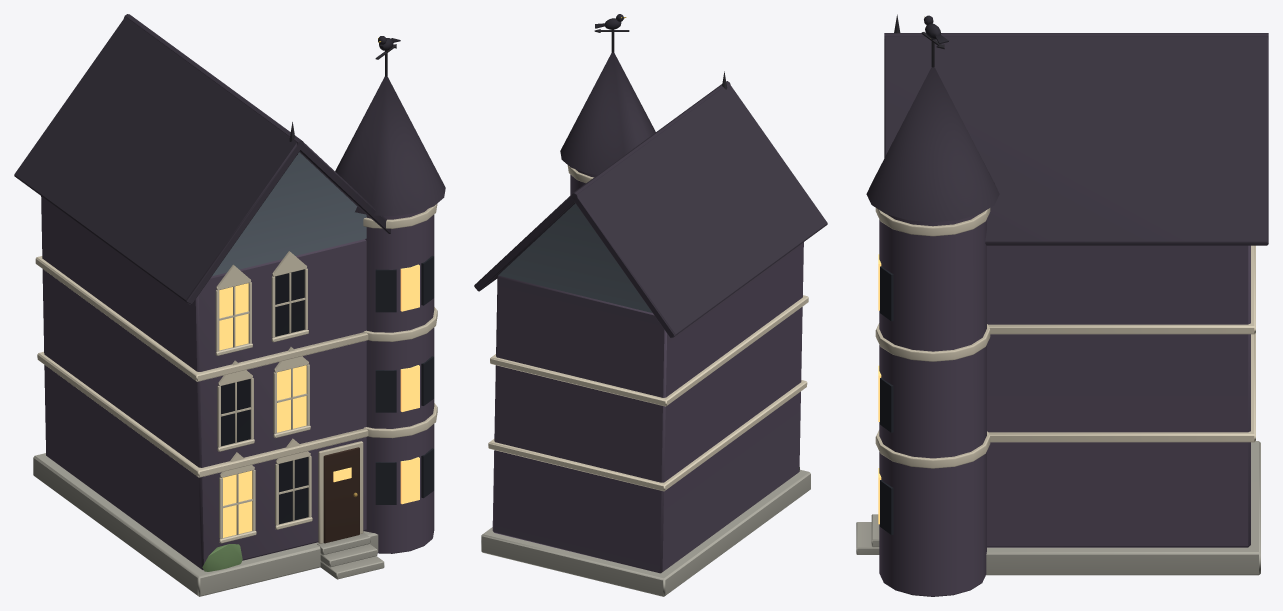
The model's file is env_house_c.glb.
3 views of the same model, side by side, from view 1: azimuth 30°, elevation 25°; view 2: azimuth 150°, elevation 25°; view 3: azimuth 270°, elevation 25° (orthographic). The views are drawn at different scales.
Visible parts, largest first — view 1: env_house_c, bulb; view 2: env_house_c; view 3: env_house_c.
Part boxes in pixels (x1,y1,x2,y2): env_house_c: [14, 14, 445, 596]; bulb: [219, 264, 419, 537]; env_house_c: [474, 14, 827, 596]; env_house_c: [856, 14, 1268, 596].
Size of the model in its own units: 6.83 by 11.97 by 8.05.
